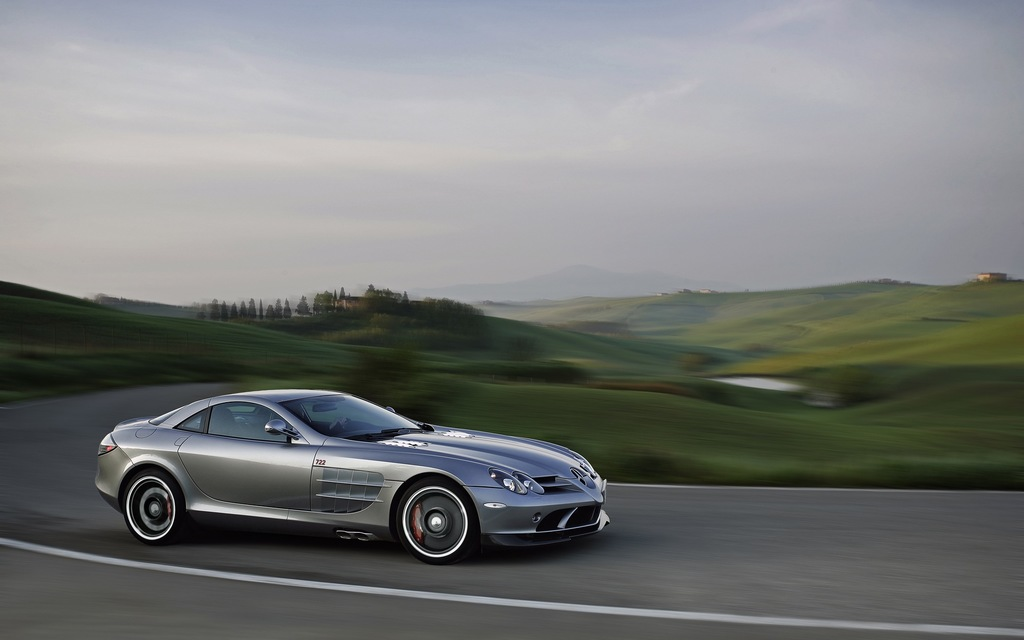mobil: (95, 384, 616, 573)
